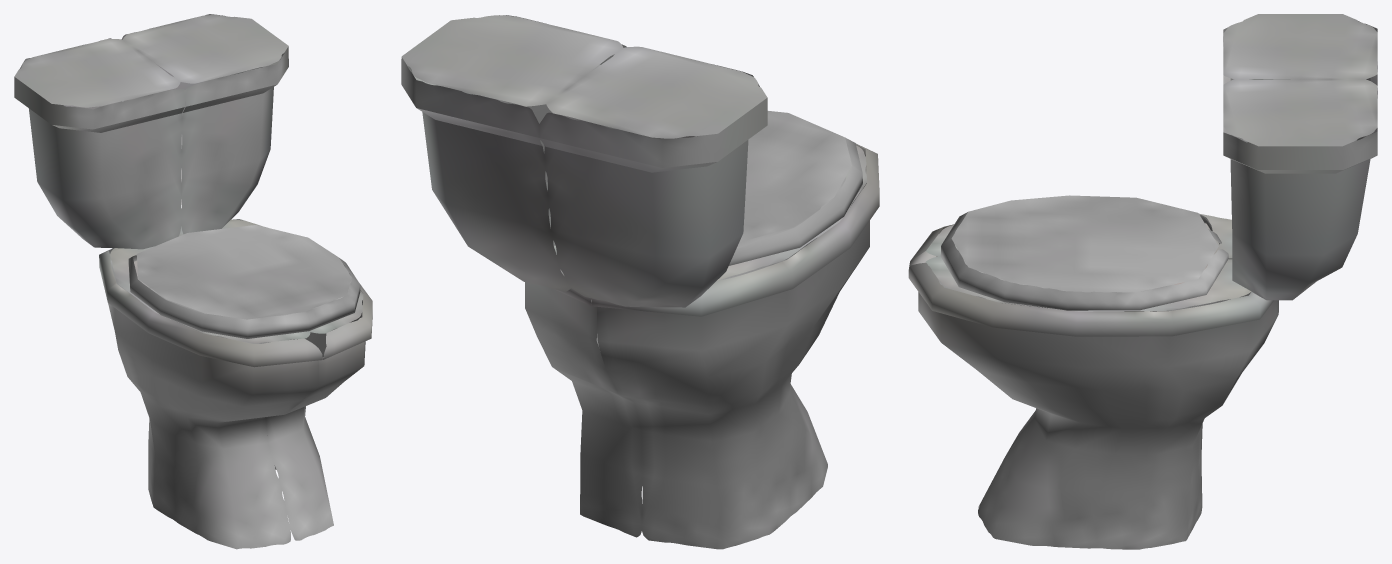
File: toilet--3.gltf
3 renders of one model, left to right at view 1: azimuth 30°, elevation 25°; view 2: azimuth 150°, elevation 25°; view 3: azimuth 270°, elevation 25°, orthographic. The views are drawn at different scales.
Visible parts, largest first — view 1: Toilet_2; view 2: Toilet_2; view 3: Toilet_2.
Part boxes in pixels (left/top/right/bottom): Toilet_2: left=14, top=14, right=372, bottom=549; Toilet_2: left=401, top=15, right=879, bottom=549; Toilet_2: left=908, top=14, right=1377, bottom=549.
Bounding box in the file's own units: 0.5552 × 0.8467 × 0.8335.
Materials: 1 (1 with a texture image).
